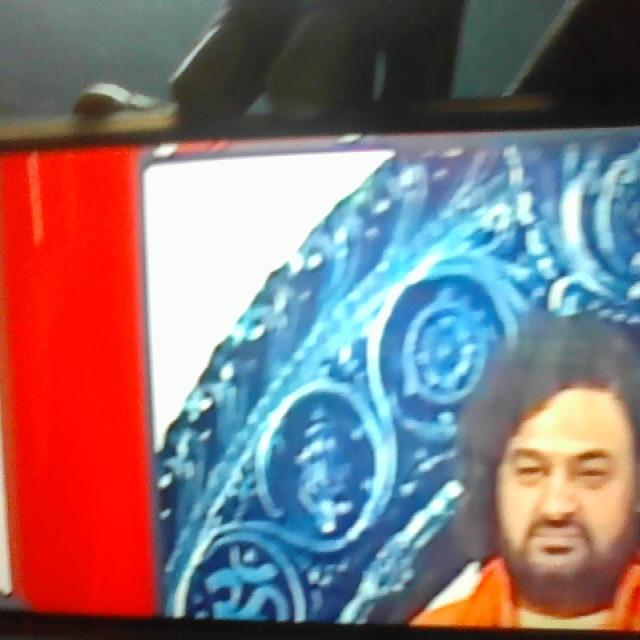fake: (496, 343, 638, 612)
